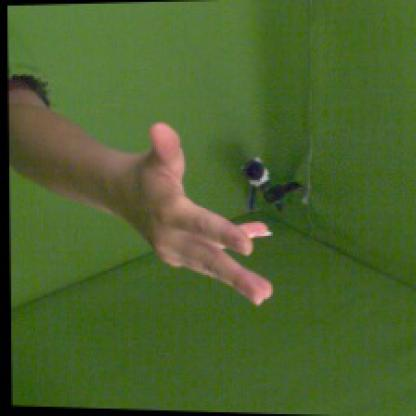Hand: (127, 122, 273, 306)
